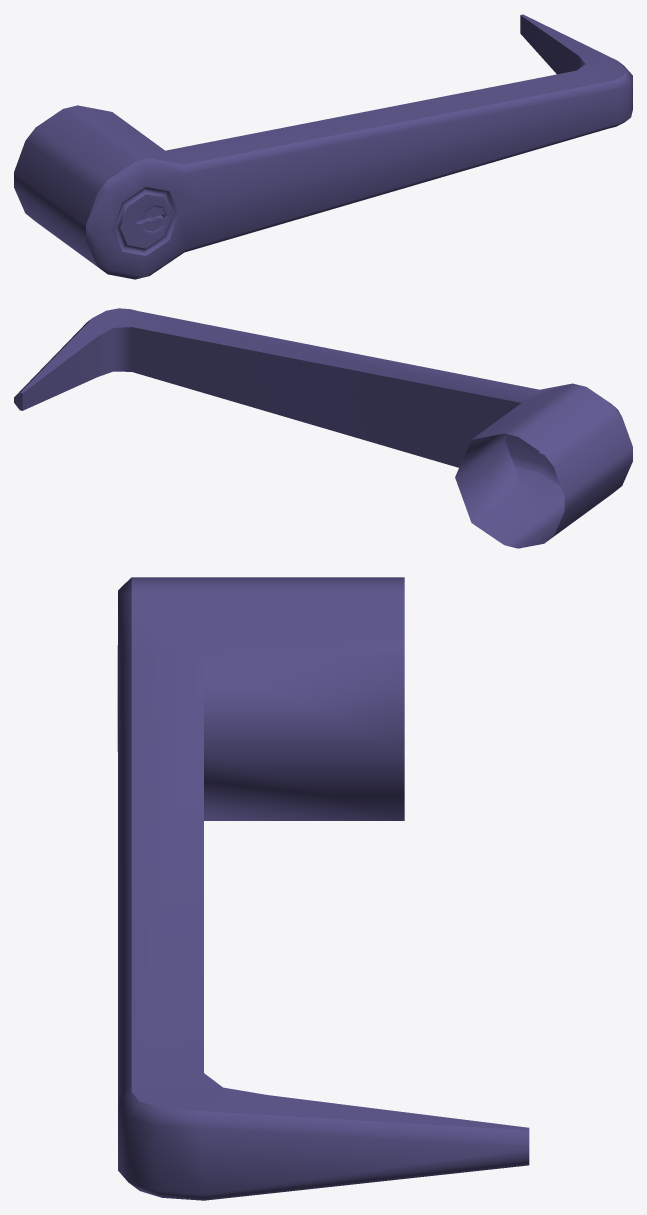
File: Picaporte.fbx
3 views of the same model, one above another, from view 1: azimuth 30°, elevation 25°; view 2: azimuth 150°, elevation 25°; view 3: azimuth 270°, elevation 25° (orthographic). The views are drawn at different scales.
Parts seen in each view (by area): view 1: Picaporte; view 2: Picaporte; view 3: Picaporte.
Part boxes in pixels (box(x1,y1,x2,y2)): Picaporte: box(14, 14, 632, 279); Picaporte: box(14, 308, 632, 548); Picaporte: box(117, 577, 529, 1200).
Bounding box in the file's own units: 0.1616 × 0.0327 × 0.0545.
